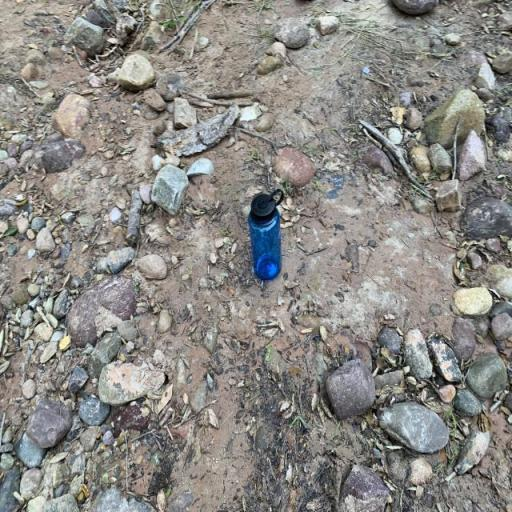bottle: (248, 189, 284, 280)
